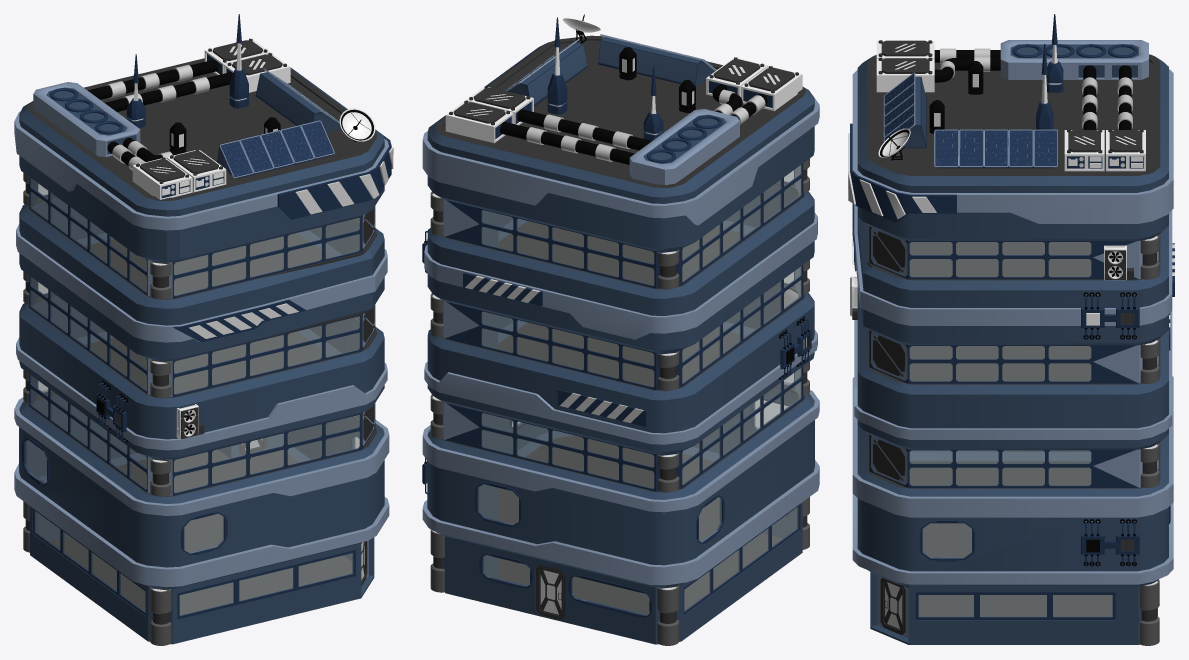
Rendered from Apartment5Story.fbx.
The picture shows the model from 3 angles, left to right: view 1: azimuth 30°, elevation 25°; view 2: azimuth 150°, elevation 25°; view 3: azimuth 270°, elevation 25°; orthographic projection. The views are drawn at different scales.
Visible parts, largest first — view 1: main Building, main Building.001, main Building.004, main Building.003, main Building.002; view 2: main Building, main Building.001, main Building.004, main Building.003, Cube.002; view 3: main Building, main Building.001, main Building.004, main Building.003, Cube.001, main Building.002.
Boxes of the visible parts, left/top/right/bottom form: main Building: left=14, top=14, right=393, bottom=644; main Building.001: left=25, top=178, right=359, bottom=615; main Building.004: left=23, top=38, right=290, bottom=645; main Building.003: left=88, top=59, right=391, bottom=442; main Building.002: left=339, top=108, right=375, bottom=141; main Building: left=422, top=14, right=819, bottom=644; main Building.001: left=478, top=165, right=801, bottom=615; main Building.004: left=430, top=47, right=809, bottom=645; main Building.003: left=422, top=84, right=811, bottom=426; Cube.002: left=536, top=565, right=565, bottom=620; main Building: left=848, top=14, right=1173, bottom=644; main Building.001: left=909, top=242, right=1112, bottom=616; main Building.004: left=850, top=40, right=1159, bottom=645; main Building.003: left=848, top=48, right=1174, bottom=350; Cube.001: left=880, top=578, right=905, bottom=634; main Building.002: left=878, top=128, right=910, bottom=157.
Bounding box in the file's own units: 4.61 × 8.66 × 4.54.
